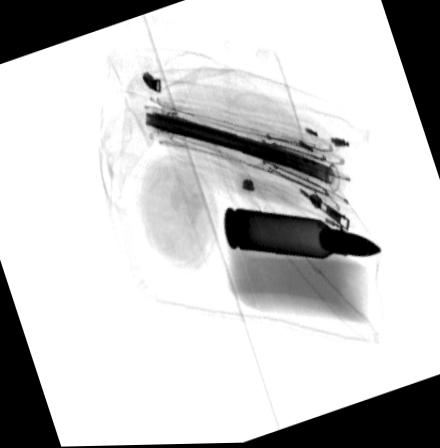Bullet: (222, 208, 384, 262)
